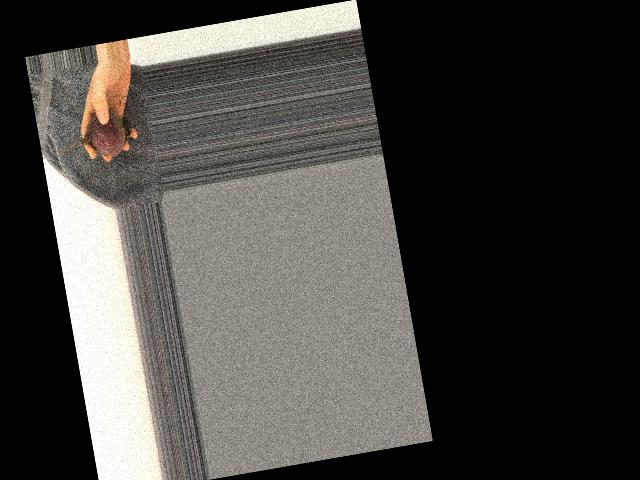beet: (49, 105, 134, 166)
